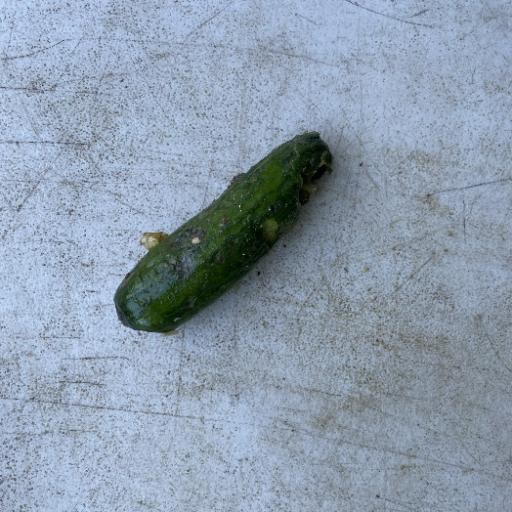Waste: (112, 128, 336, 334)
